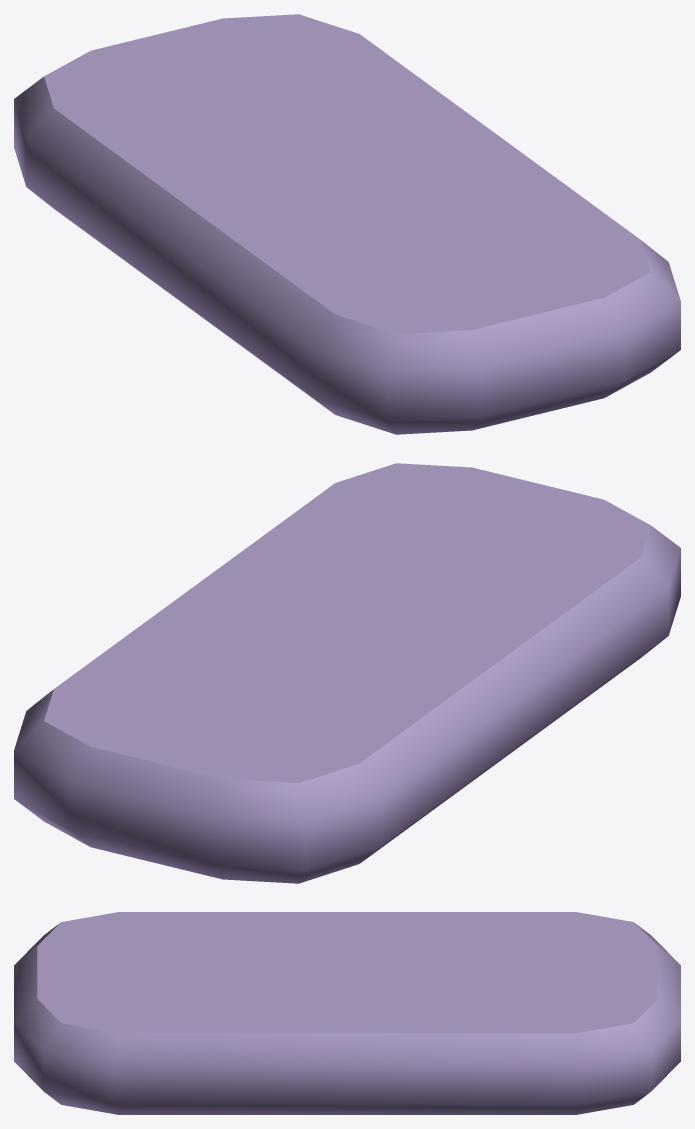
The model's file is cushion-rounded-wide_0.glb.
3 renders of one model, top to bottom at view 1: azimuth 30°, elevation 25°; view 2: azimuth 150°, elevation 25°; view 3: azimuth 270°, elevation 25°, orthographic. The views are drawn at different scales.
Visible parts, largest first — view 1: cushion-rounded-wide; view 2: cushion-rounded-wide; view 3: cushion-rounded-wide.
Part boxes in pixels (x1=…): cushion-rounded-wide: x1=14, y1=14, x2=680, y2=434; cushion-rounded-wide: x1=14, y1=463, x2=680, y2=883; cushion-rounded-wide: x1=14, y1=912, x2=680, y2=1114.
Bounding box in the file's own units: 0.5 × 0.1352 × 1.
